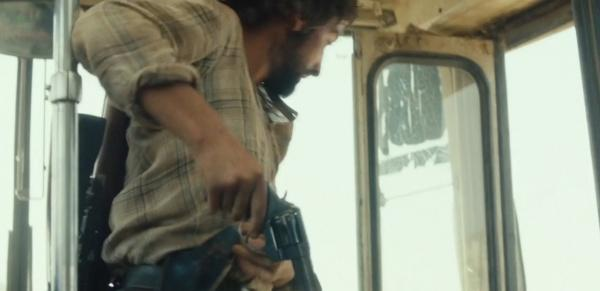Gun: (253, 183, 319, 291)
